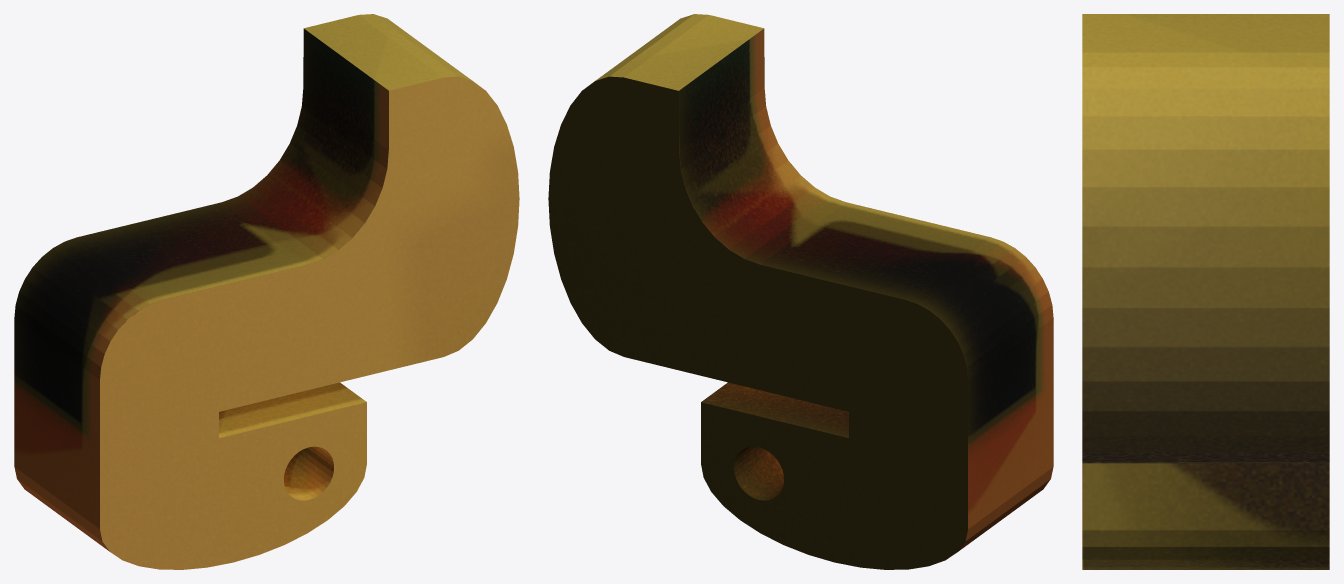
Rendered from icon_python_yellow.glb.
3 renders of one model, left to right at view 1: azimuth 30°, elevation 25°; view 2: azimuth 150°, elevation 25°; view 3: azimuth 270°, elevation 25°, orthographic. The views are drawn at different scales.
Parts seen in each view (by area): view 1: icon_python_yellow; view 2: icon_python_yellow; view 3: icon_python_yellow.
Boxes of the visible parts, bbox=[...] form: icon_python_yellow: bbox=[14, 14, 519, 569]; icon_python_yellow: bbox=[548, 14, 1053, 569]; icon_python_yellow: bbox=[1082, 14, 1329, 569].
Bounding box in the file's own units: 2.96 × 2.92 × 1.04.
1 material, 1 textured.
